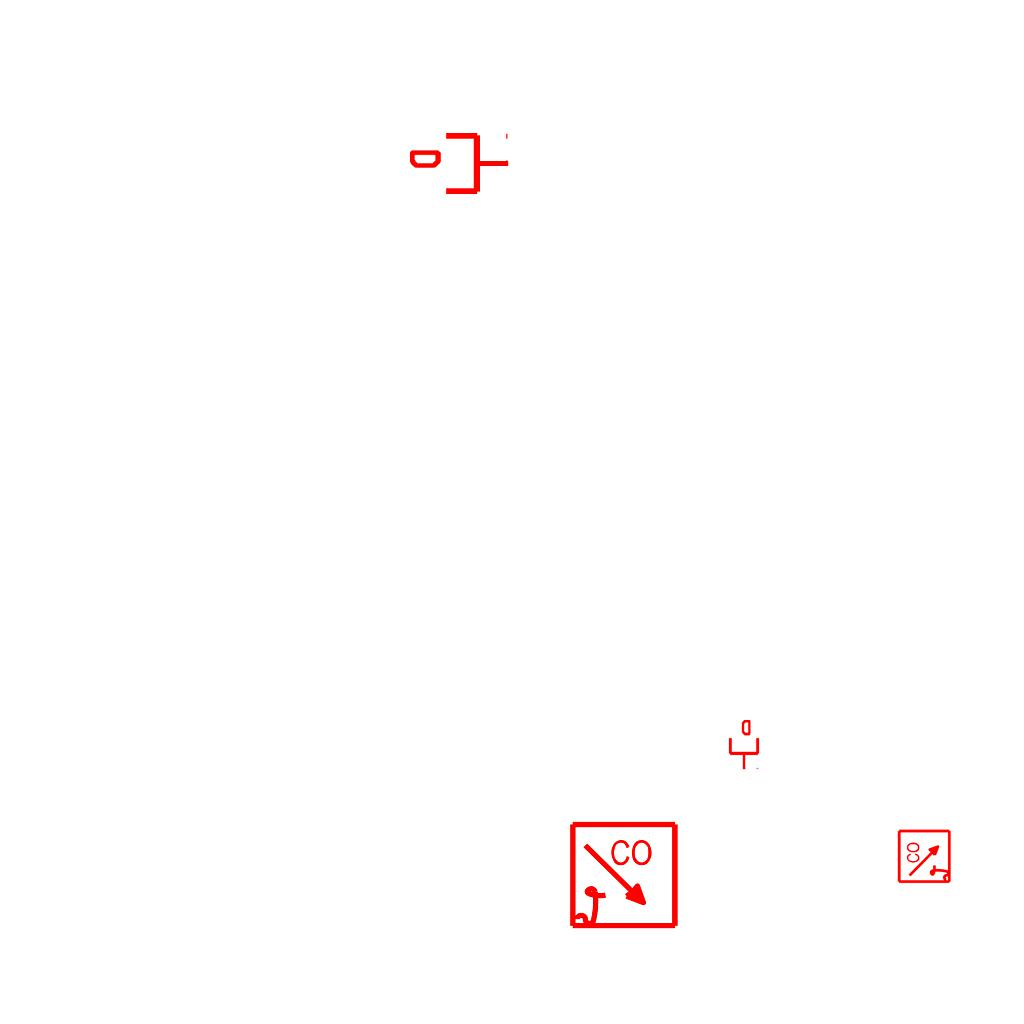Datenanschluss_einfach: (410, 129, 510, 198), (727, 720, 761, 770)
ROA_Rauchmelder_optisch_mit_Signalgeber_(Sockelsirene): (568, 820, 681, 933), (897, 828, 953, 884)
